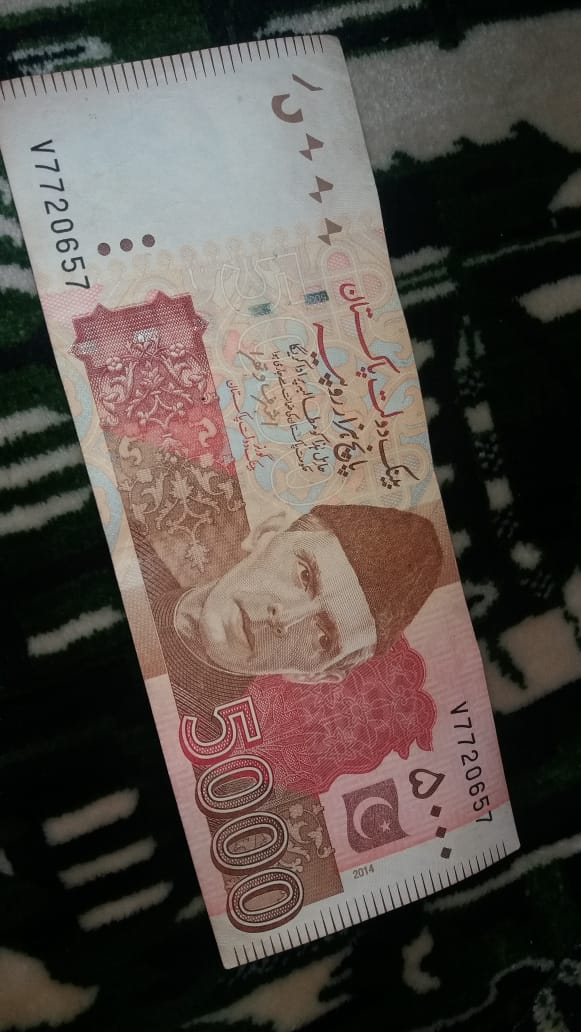5000 rupee: (7, 55, 528, 973)
